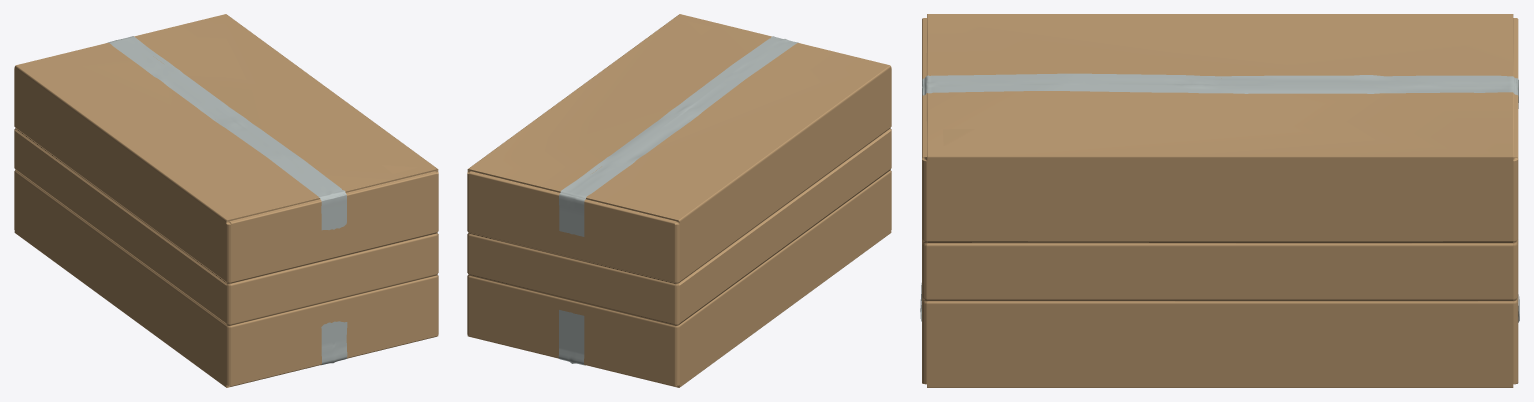
Rendered from box_multiDepth_a06.glb.
3 renders of one model, left to right at view 1: azimuth 30°, elevation 25°; view 2: azimuth 150°, elevation 25°; view 3: azimuth 270°, elevation 25°, orthographic. The views are drawn at different scales.
Size of the model in its own units: 0.2021 by 0.1551 by 0.357.
